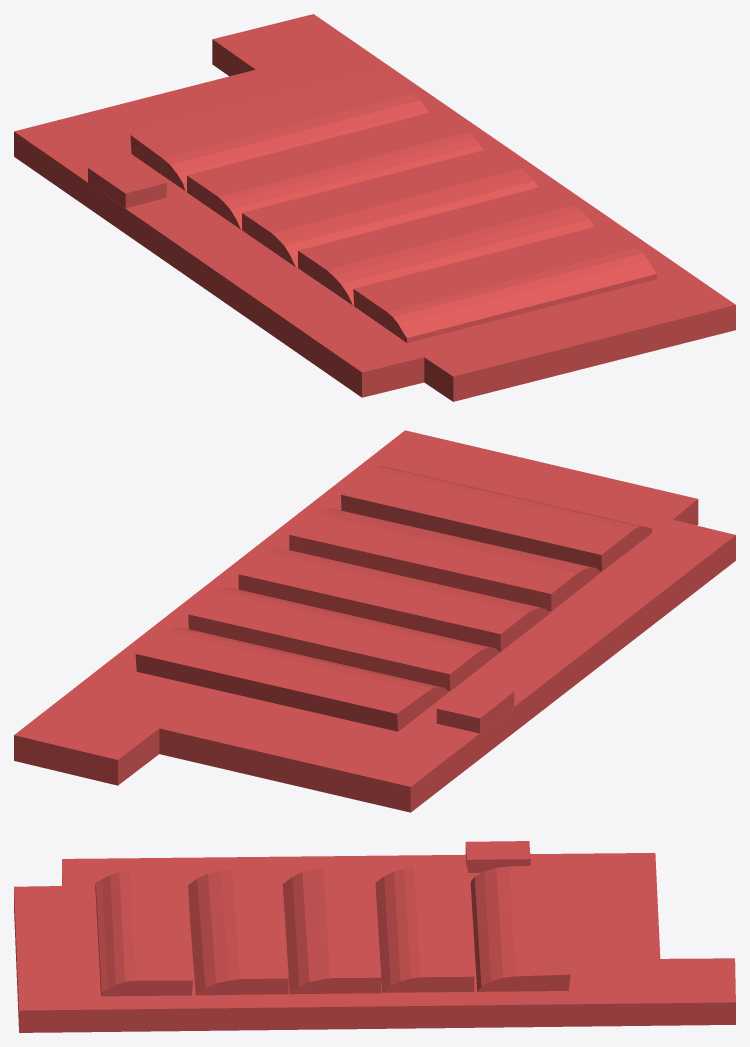
The picture shows the model from 3 angles, top to bottom: view 1: azimuth 30°, elevation 25°; view 2: azimuth 150°, elevation 25°; view 3: azimuth 270°, elevation 25°; orthographic projection. The views are drawn at different scales.
Parts seen in each view (by area): view 1: skpB6B4_001; view 2: skpB6B4_001; view 3: skpB6B4_001.
Boxes of the visible parts, x1,y1,x2,y2 form: skpB6B4_001: (14, 14, 735, 401); skpB6B4_001: (14, 430, 735, 812); skpB6B4_001: (14, 841, 735, 1032).
Bounding box in the file's own units: 3297 × 378 × 6381.
